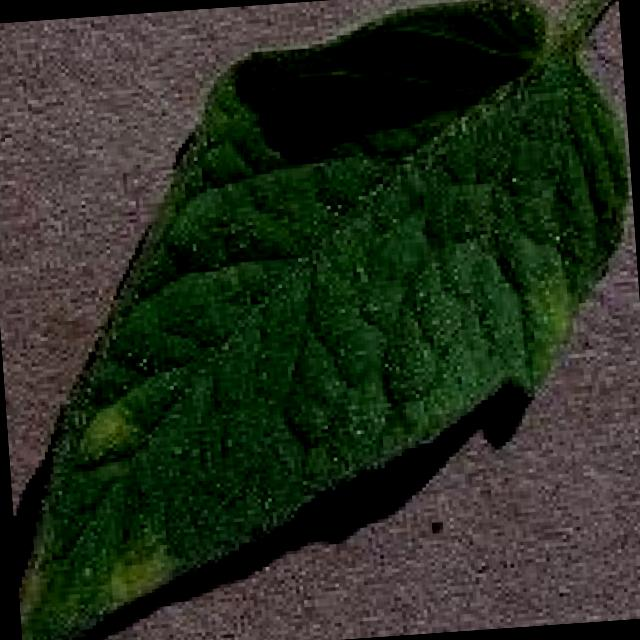leaf mold: (17, 0, 631, 640)
